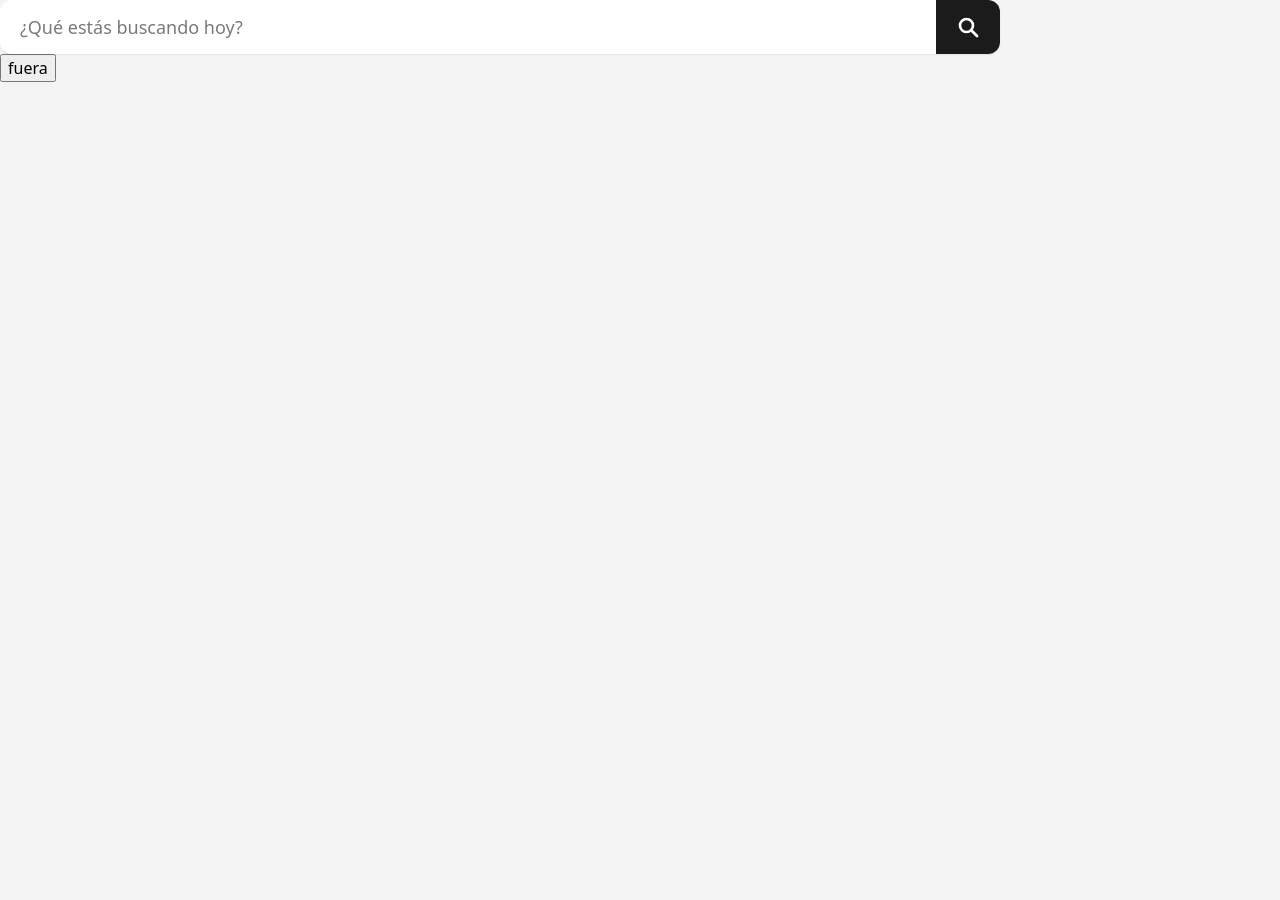
Test: SearchBox › si la búsqueda nombra una marca reconocida, la publicidad es su video
The image size is (1280, 900).
Type "nike" into the search field named "Buscar productos" at coordinates (468, 27), box [0,0,936,54]
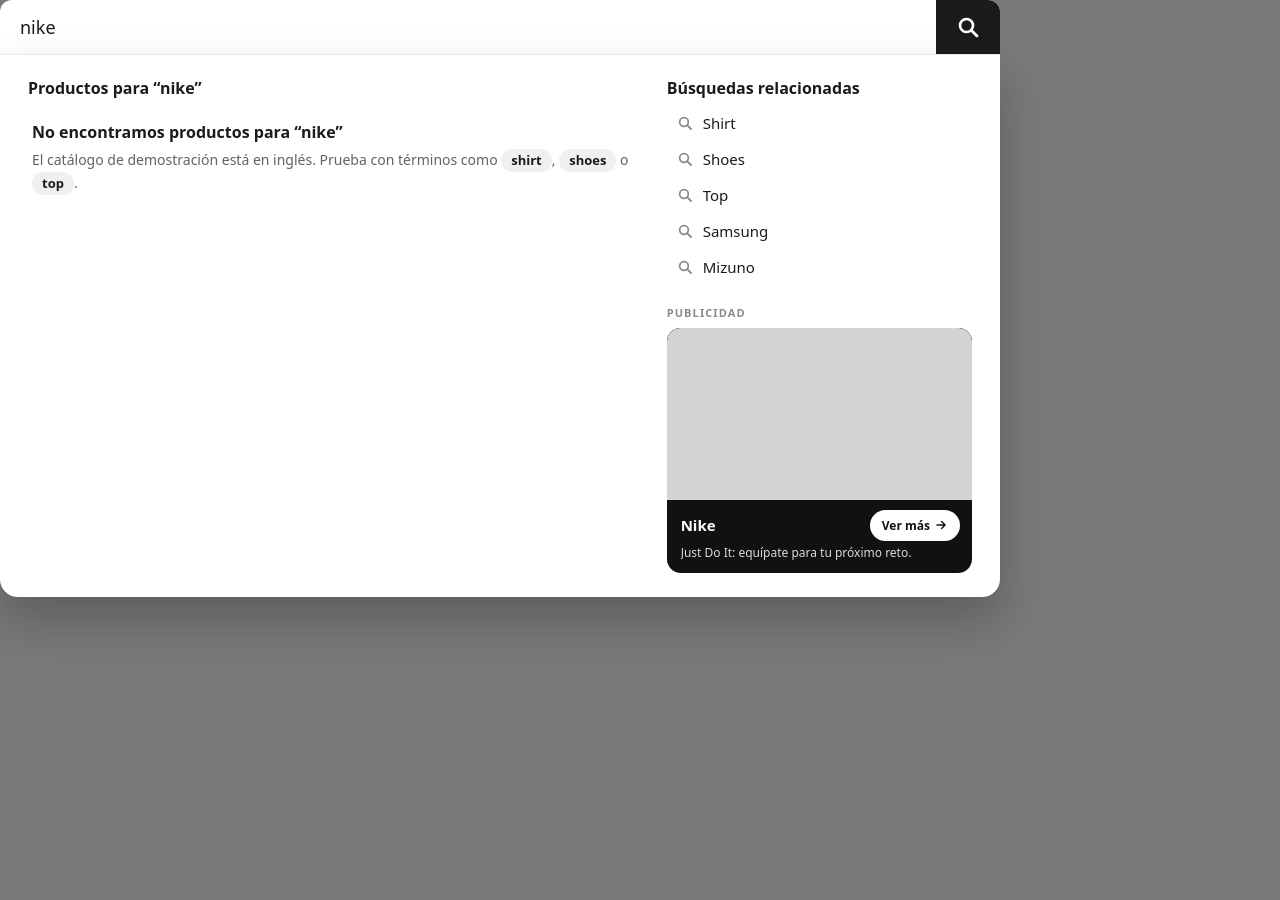
Expected: the text "No encontramos productos para “nike”" is shown, [32,121,343,143]
